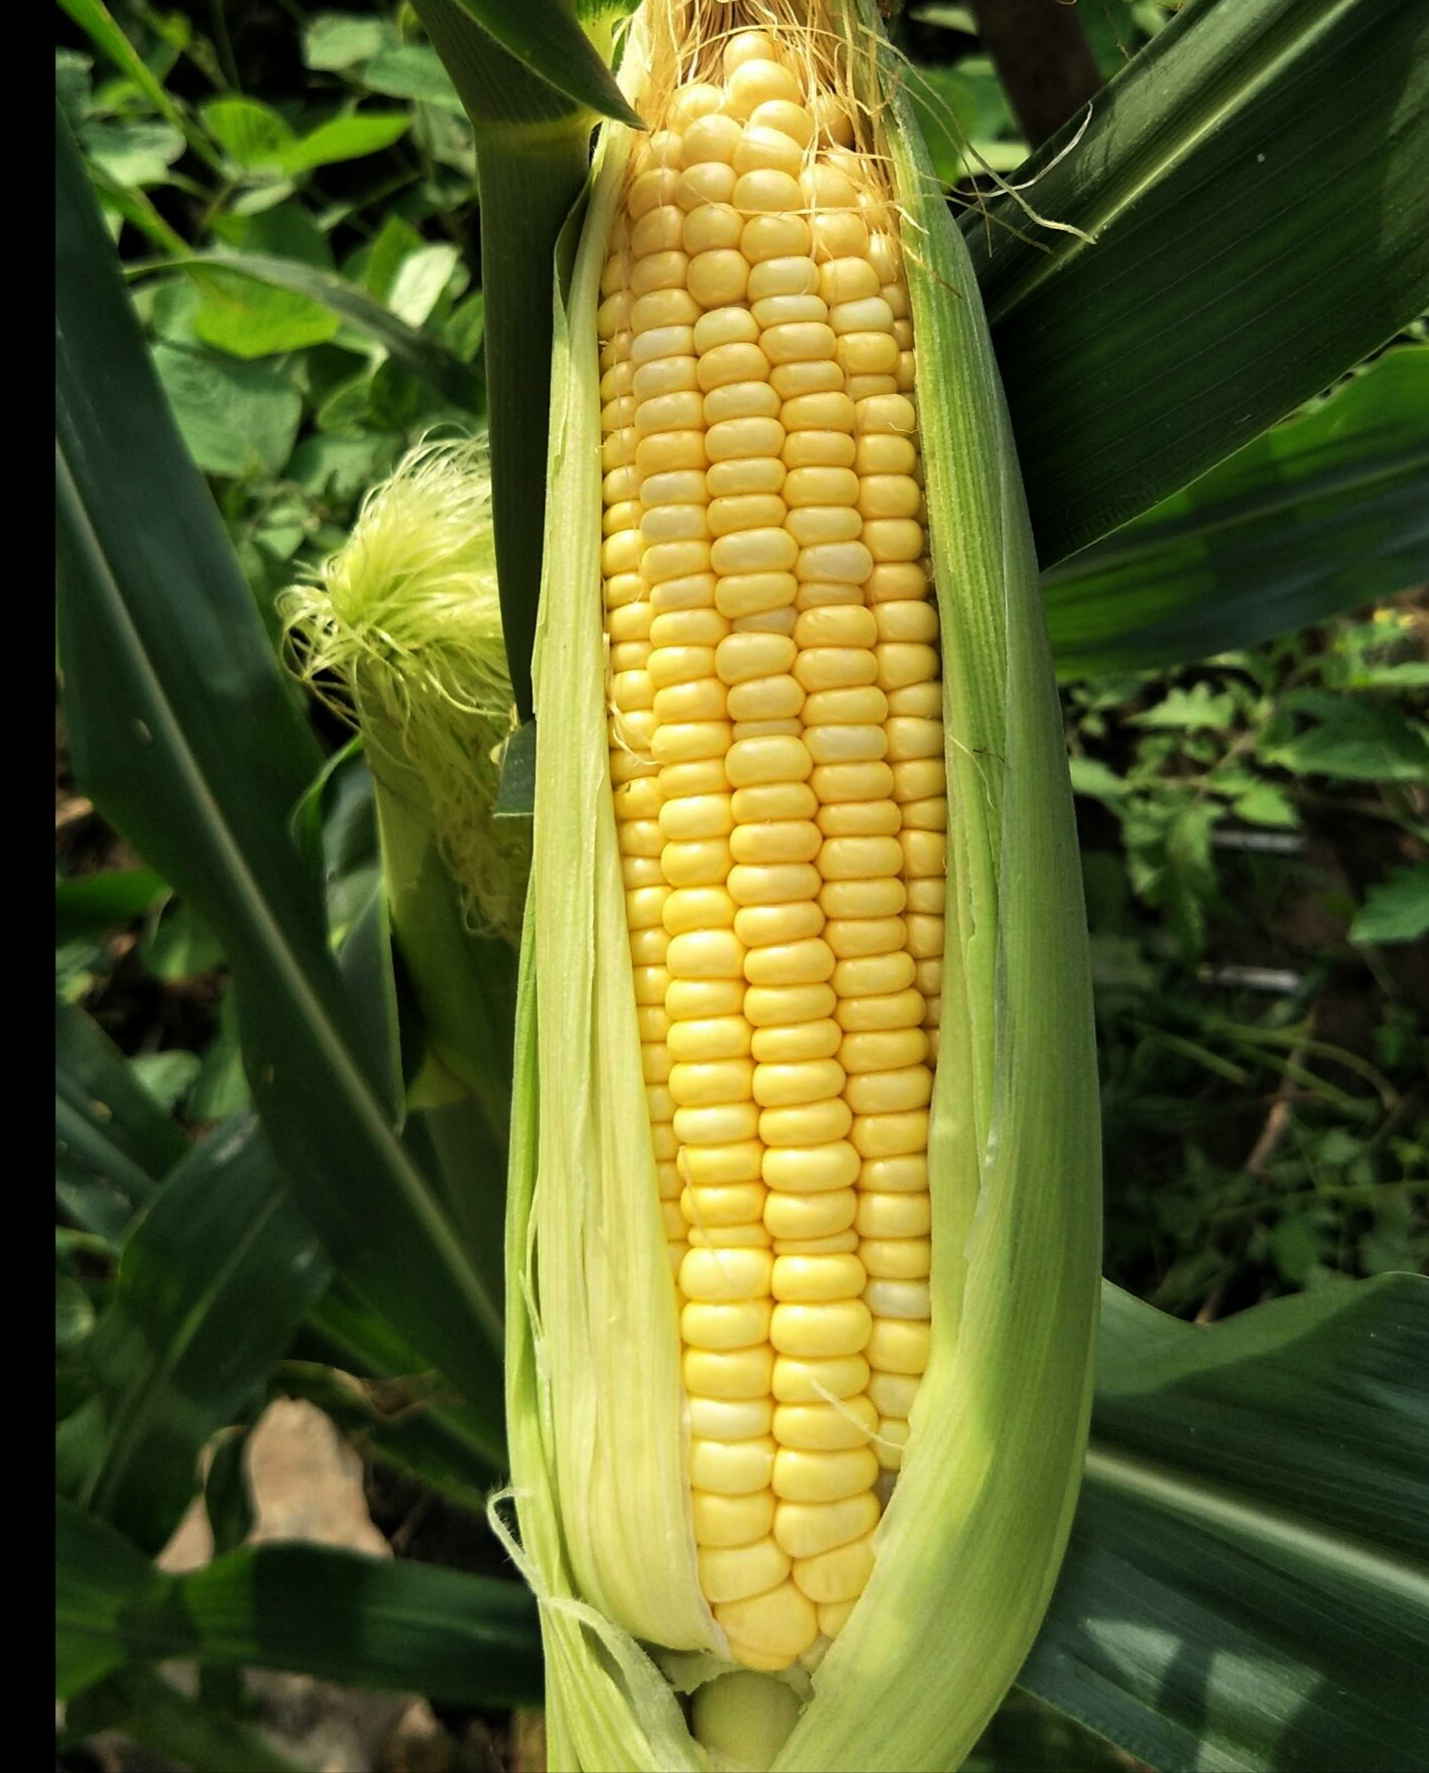corn: (510, 0, 1099, 1772)
